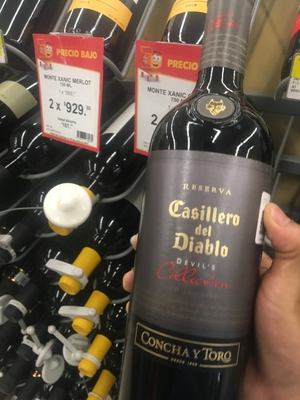casillero del diablo devils collection rojo: (131, 26, 273, 400)
